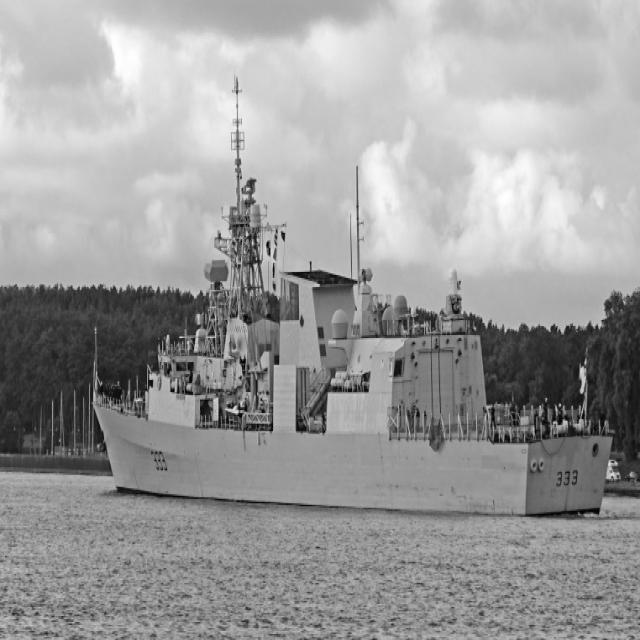Fragata: (94, 55, 620, 530)
